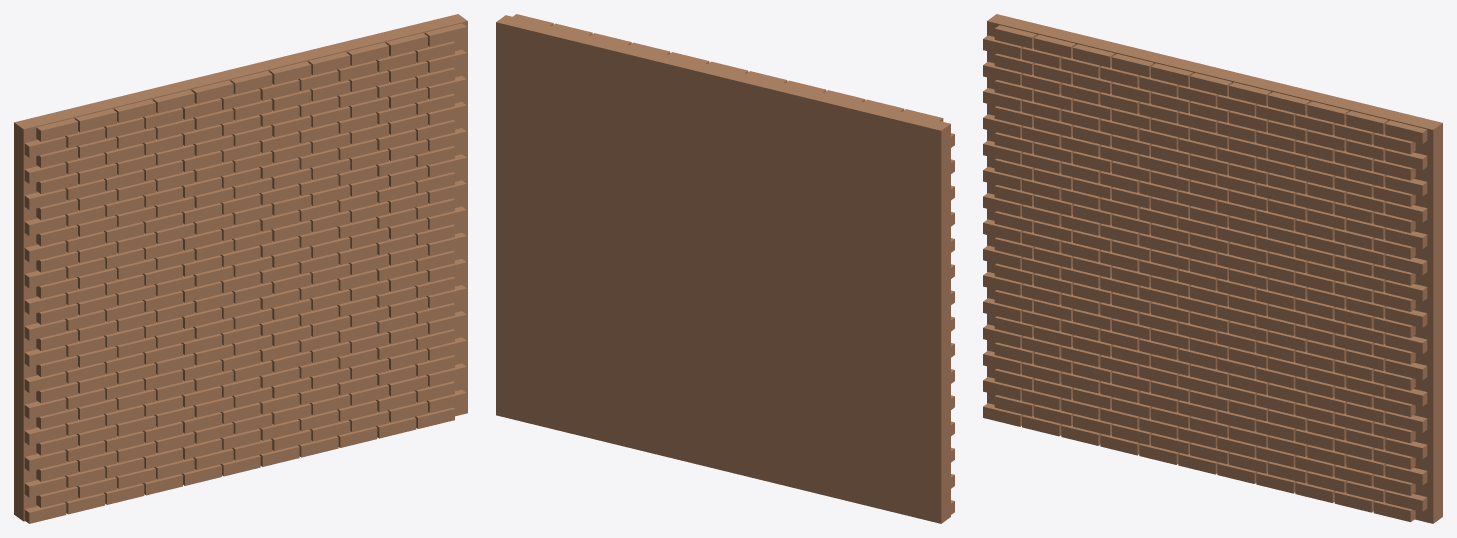
The picture shows the model from 3 angles, left to right: view 1: azimuth 30°, elevation 25°; view 2: azimuth 150°, elevation 25°; view 3: azimuth 330°, elevation 25°; orthographic projection.
Parts seen in each view (by area): view 1: QH-A0027_V02_geometry; view 2: QH-A0027_V02_geometry; view 3: QH-A0027_V02_geometry.
Boxes of the visible parts, x1,y1,x2,y2 form: QH-A0027_V02_geometry: (14,14,467,523); QH-A0027_V02_geometry: (496,14,954,523); QH-A0027_V02_geometry: (983,14,1442,523).
Size of the model in its own units: 3.2 by 2.7 by 0.18.
